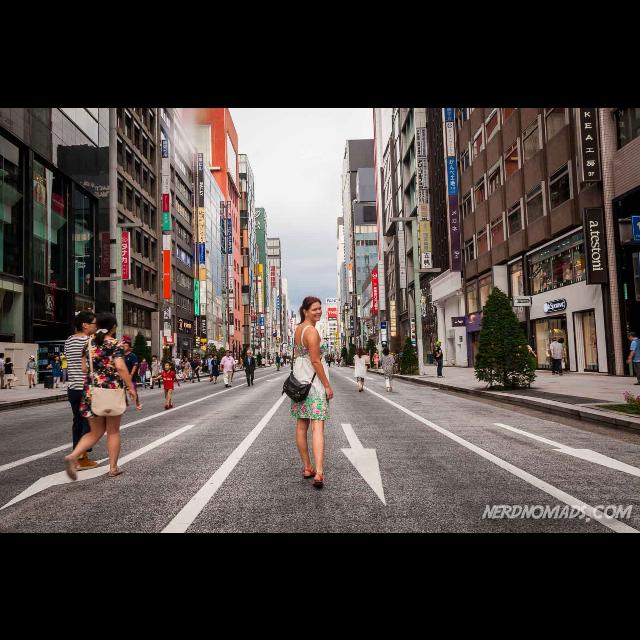head: (75, 310, 99, 334), (302, 295, 324, 321), (95, 311, 118, 334), (628, 331, 636, 341), (123, 341, 131, 351), (164, 362, 172, 371), (551, 336, 557, 342), (383, 347, 389, 353), (358, 347, 364, 353), (246, 350, 252, 356), (152, 355, 158, 361), (54, 354, 60, 360), (29, 354, 35, 360), (5, 357, 11, 363), (552, 336, 556, 342), (436, 342, 442, 346), (226, 350, 230, 356), (142, 356, 146, 362), (0, 352, 4, 358), (214, 354, 218, 358), (209, 353, 213, 357), (193, 356, 197, 360), (61, 351, 65, 355), (278, 354, 280, 358), (186, 357, 188, 361), (376, 350, 378, 352), (263, 356, 265, 358)
person: (64, 311, 140, 481), (280, 294, 336, 488), (62, 308, 112, 470), (117, 339, 143, 411), (153, 361, 181, 409), (379, 346, 399, 392), (42, 352, 64, 390), (353, 347, 369, 393), (548, 336, 566, 376), (550, 336, 568, 374), (220, 349, 237, 387), (137, 356, 153, 390), (432, 340, 446, 378), (242, 348, 256, 386), (2, 356, 18, 388), (24, 354, 38, 390), (150, 354, 162, 388), (209, 353, 221, 383), (204, 353, 216, 381), (190, 356, 202, 382), (60, 352, 70, 382), (0, 352, 8, 388), (182, 356, 192, 382), (371, 349, 381, 371), (275, 354, 281, 371), (261, 356, 267, 368)
